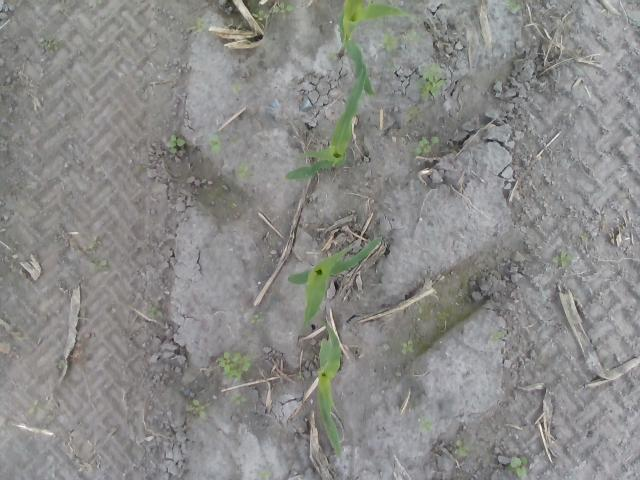Maize: (285, 69, 366, 181), (288, 238, 384, 325), (338, 1, 416, 96), (312, 316, 344, 458)
Weeds: (215, 351, 251, 381), (420, 63, 442, 101), (412, 136, 438, 156), (510, 456, 529, 480), (28, 400, 48, 420), (37, 36, 58, 54), (165, 134, 185, 152), (186, 400, 206, 418), (188, 18, 208, 35), (554, 250, 574, 266), (88, 258, 108, 274), (418, 413, 433, 434), (237, 158, 250, 182), (272, 1, 294, 15), (379, 32, 396, 50), (488, 329, 505, 346), (454, 439, 470, 457), (232, 78, 243, 99), (400, 340, 414, 356), (208, 135, 221, 152), (150, 303, 163, 320), (232, 392, 248, 405), (249, 10, 269, 20), (400, 31, 418, 42), (504, 1, 522, 12), (407, 105, 421, 119), (250, 312, 264, 325), (88, 1, 104, 8), (134, 164, 148, 172), (264, 471, 276, 480), (580, 232, 589, 244)
